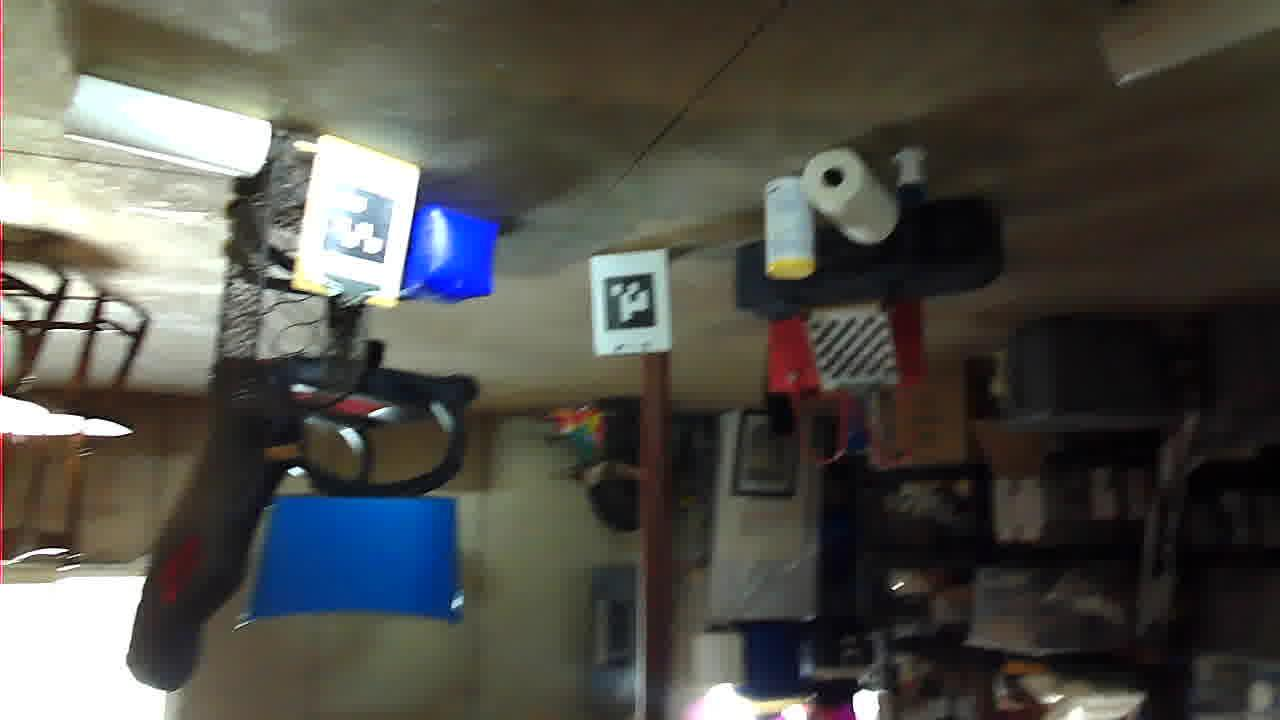coral: (1010, 543, 1216, 647), (0, 633, 189, 720)
